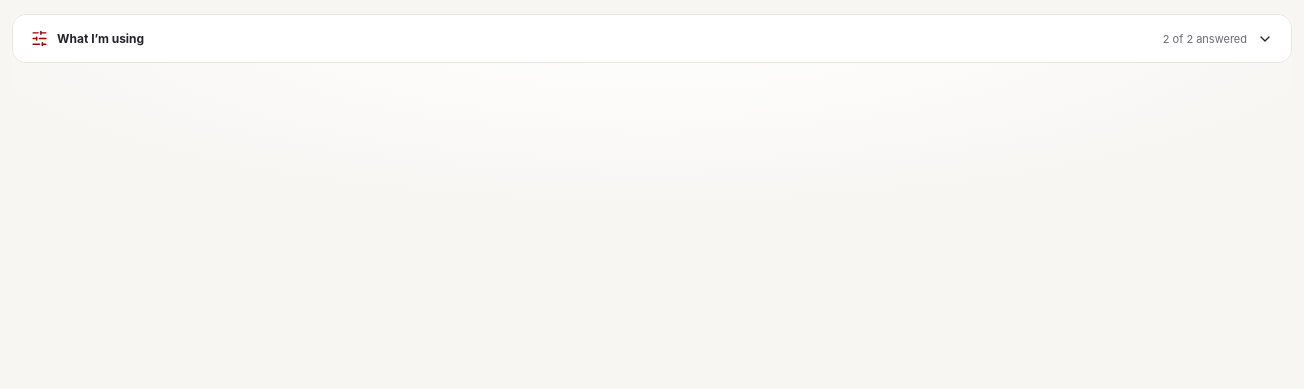
Test: information editor › saves an explicit reset and validates a custom sentence
Later steps or results of the test are not shown.
Click the button "What I’m using 2 of 2 answered": (101, 38) 13,15 -> 1291,62
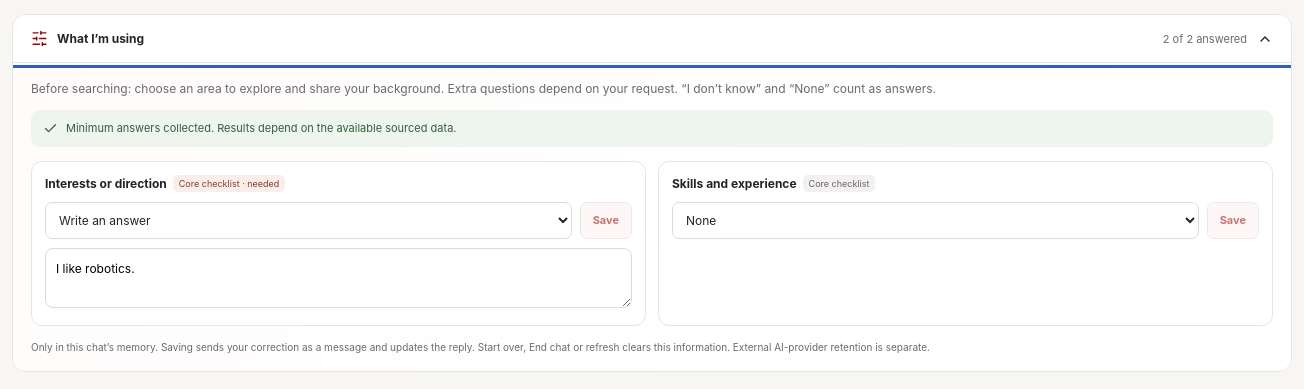
Select "Not answered" in the dropdown labelled "Interests or direction": (308, 220) 45,202 -> 572,239
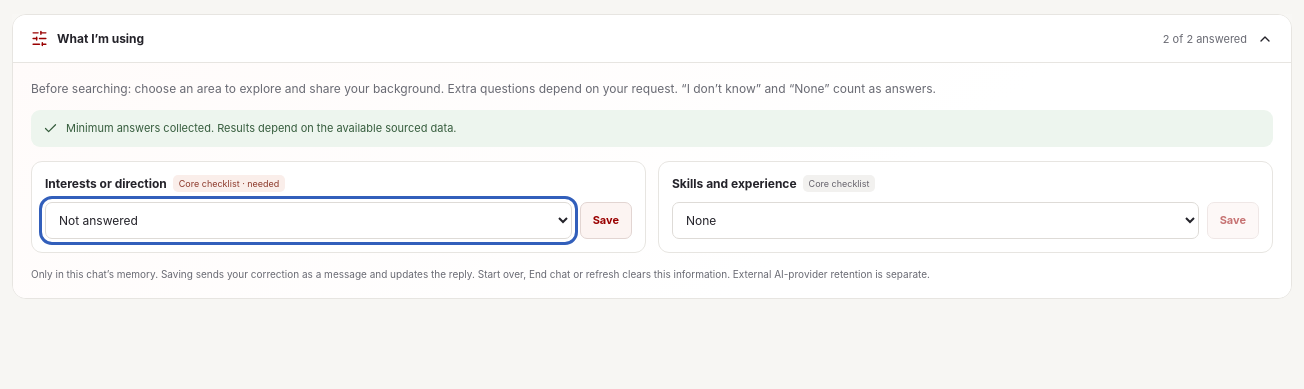
Click the button with aria-label "Save interests or direction": (606, 220) 580,202 -> 632,239
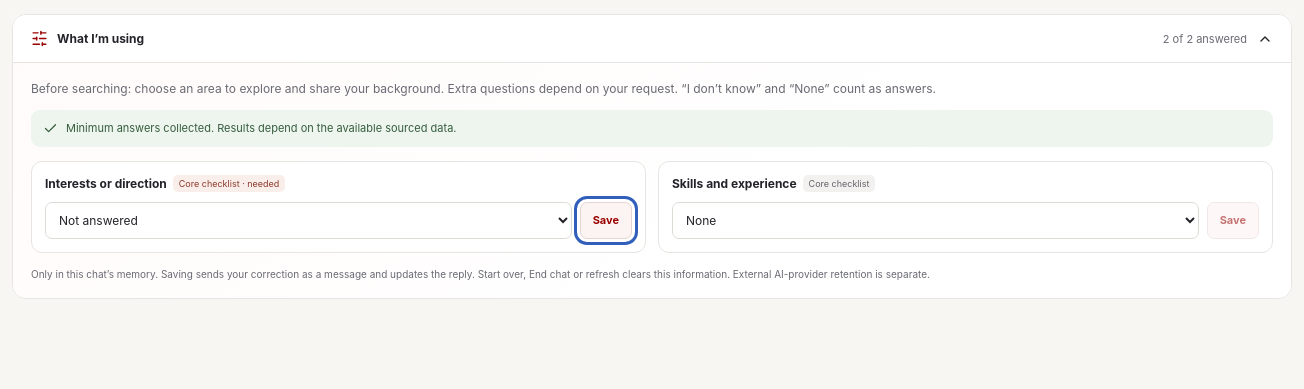
Select "Write an answer" in the dropdown labelled "Interests or direction": (308, 220) 45,202 -> 572,239
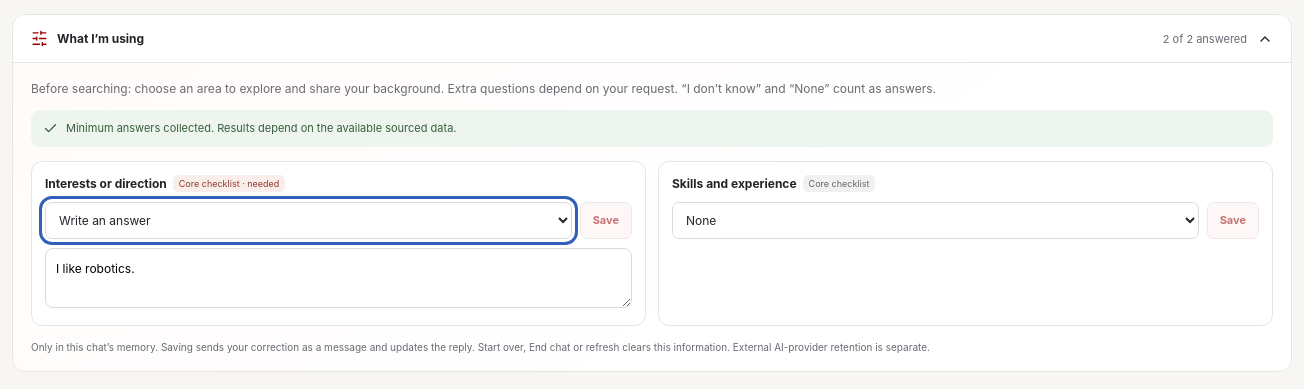
Clear the text box named "Interests or direction answer": (338, 278) 45,248 -> 632,308
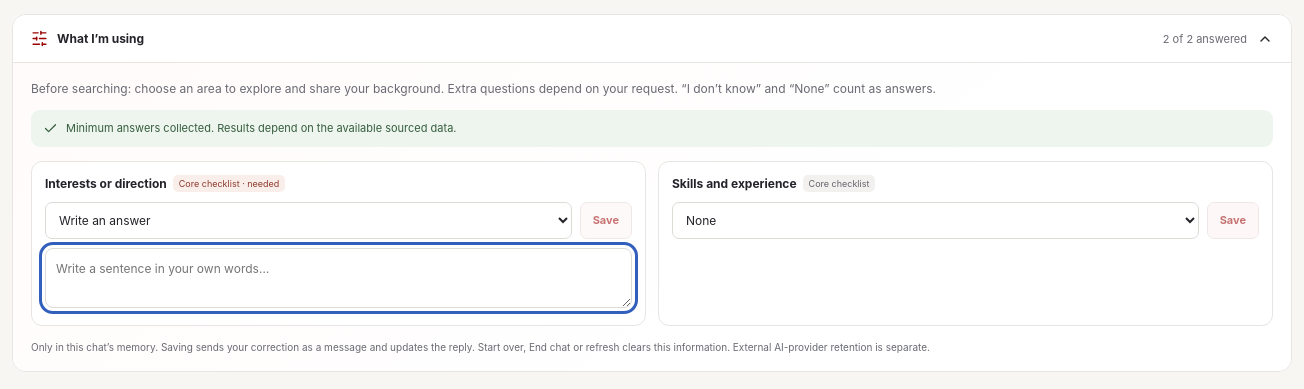
Result: the button with aria-label "Save interests or direction" is disabled at 580,202 -> 632,239
